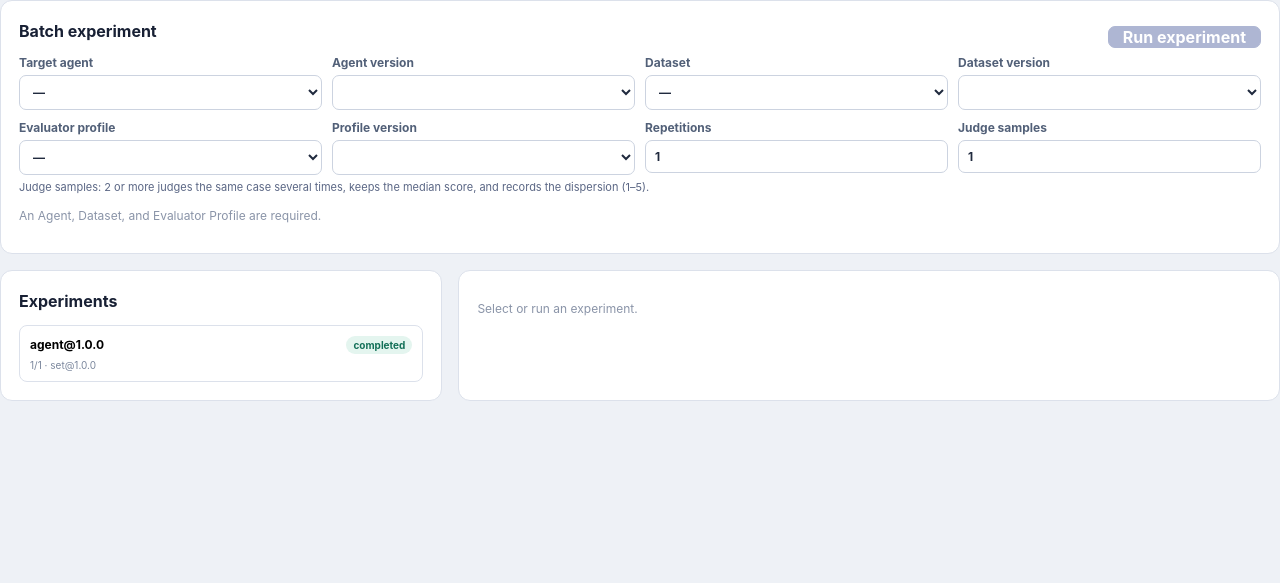
Scenario: ExperimentsTab のトレース表示 › 空のトレースは見出しだけを出し、行は描かない
The image size is (1280, 583).
Click the button "agent@1.0.0 completed 1/1 · set@1.0.0". click: (47, 344)
box: [19,324,423,382]
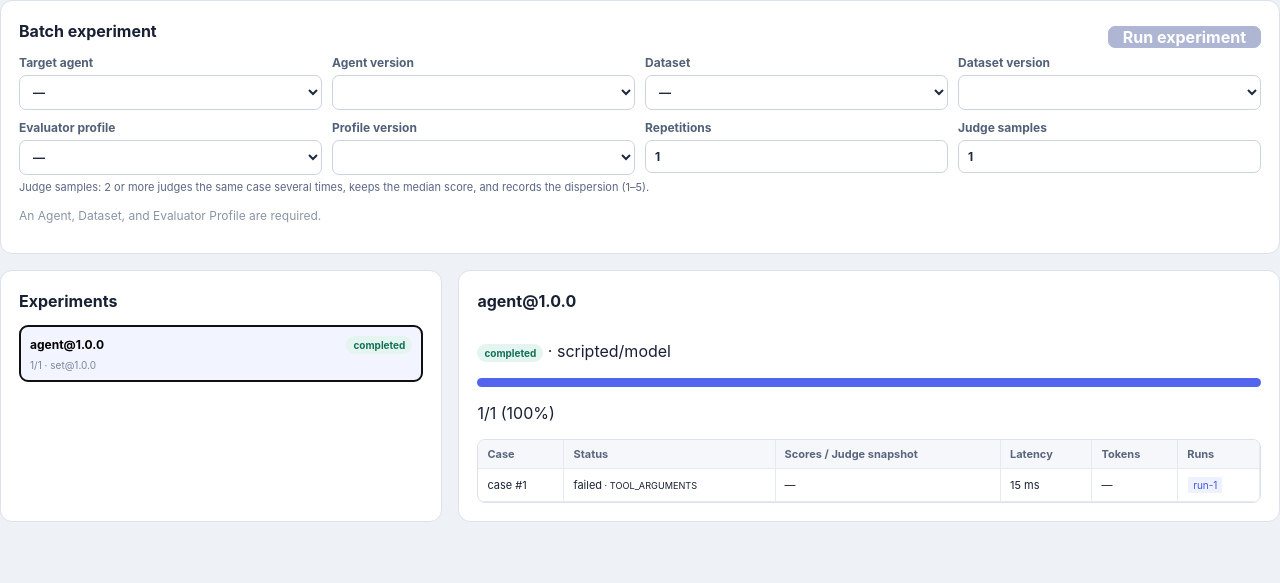
Click the button "run-1". click: (1205, 484)
box: [1188,476,1222,492]
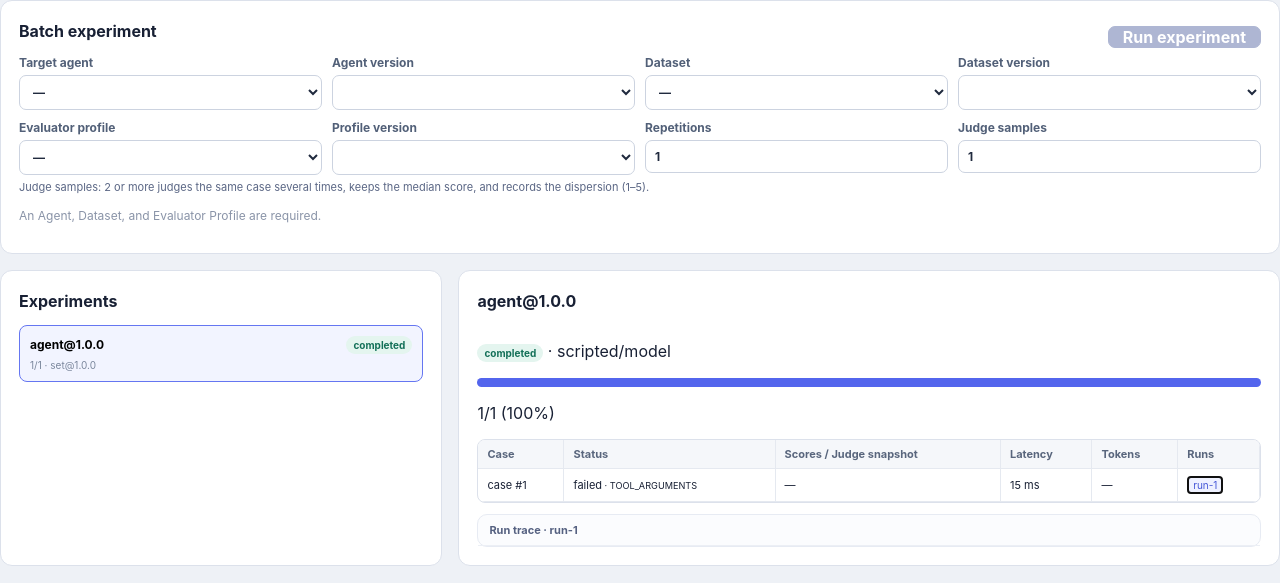
Now the heading "Run trace · run-1" is shown, box [478,514,1260,546]
